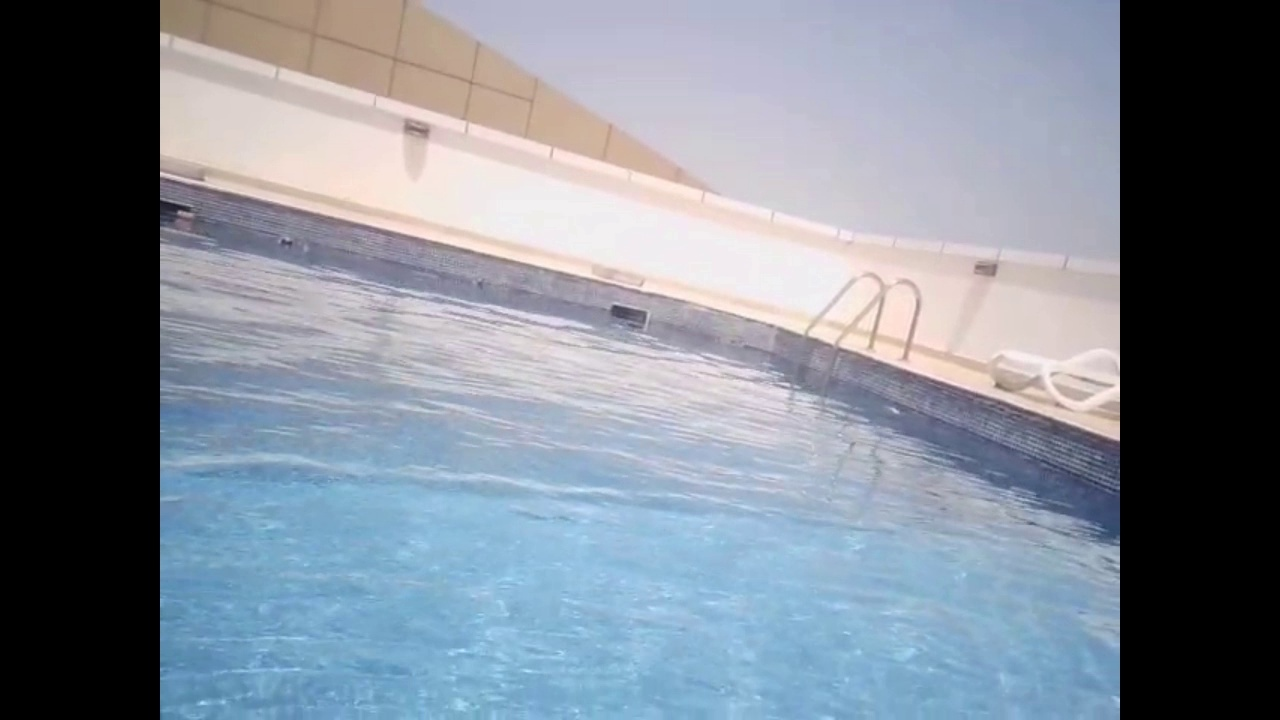debris: (273, 230, 299, 251), (174, 205, 197, 223), (294, 239, 311, 255), (469, 275, 486, 290)
